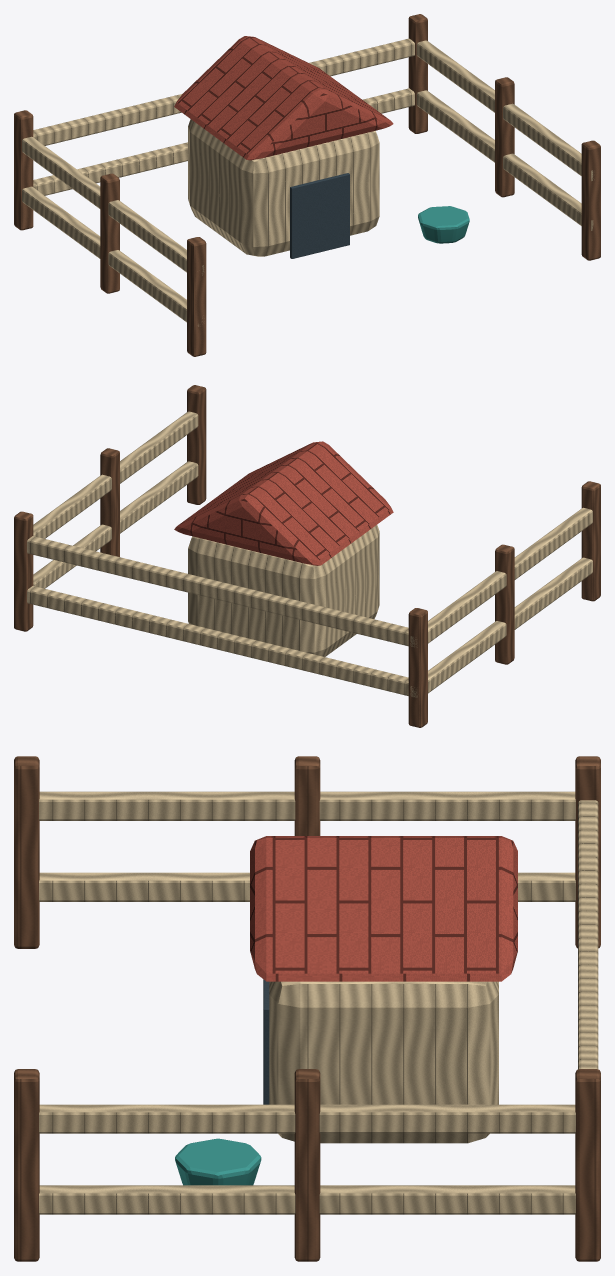
The model's file is house_backyard.glb.
3 views of the same model, one above another, from view 1: azimuth 30°, elevation 25°; view 2: azimuth 150°, elevation 25°; view 3: azimuth 270°, elevation 25° (orthographic). The views are drawn at different scales.
Visible parts, largest first — view 1: gable_roof, doghouse, back_rail.001, dog_door, side_rail.002, side_rail.003, side_rail.001, side_rail, back_rail, fence_post.003, fence_post, fence_post.001 (+4 smaller); view 2: gable_roof, doghouse, back_rail.001, back_rail, side_rail, side_rail.001, side_rail.003, side_rail.002, fence_post.002, fence_post.005, fence_post.003, fence_post.001 (+2 smaller); view 3: gable_roof, doghouse, side_rail.002, side_rail.001, side_rail.003, side_rail, back_rail.001, fence_post.004, fence_post, fence_post.003, fence_post.005, dog_bowl (+3 smaller).
Part boxes in pixels (box(x1,y1,x2,y2)): gable_roof: box(174, 36, 393, 160); doghouse: box(188, 119, 379, 256); back_rail.001: box(33, 38, 414, 145); dog_door: box(290, 173, 349, 258); side_rail.002: box(416, 90, 593, 230); side_rail.003: box(416, 40, 594, 180); side_rail.001: box(22, 136, 203, 275); side_rail: box(22, 186, 202, 326); back_rail: box(33, 88, 414, 195); fence_post.003: box(581, 140, 600, 260); fence_post: box(187, 237, 206, 356); fence_post.001: box(100, 173, 119, 293); gable_roof: box(174, 441, 393, 565); doghouse: box(188, 525, 379, 656); back_rail.001: box(27, 536, 408, 646); back_rail: box(27, 586, 408, 695); side_rail: box(410, 557, 592, 697); side_rail.001: box(410, 507, 592, 647); side_rail.003: box(33, 411, 198, 538); side_rail.002: box(33, 461, 198, 588); fence_post.002: box(408, 608, 427, 727); fence_post.005: box(14, 511, 33, 631); fence_post.003: box(187, 385, 206, 504); fence_post.001: box(495, 544, 514, 664); gable_roof: box(250, 836, 517, 981); doghouse: box(269, 981, 498, 1143); side_rail.002: box(39, 1185, 575, 1214); side_rail.001: box(39, 791, 575, 820); side_rail.003: box(39, 1104, 575, 1133); side_rail: box(39, 872, 575, 901); back_rail.001: box(578, 800, 598, 1069); fence_post.004: box(294, 1069, 320, 1261); fence_post: box(14, 756, 39, 948); fence_post.003: box(14, 1069, 39, 1261); fence_post.005: box(575, 1069, 600, 1261); dog_bowl: box(175, 1138, 261, 1185).
Bounding box in the file's own units: 3 × 1.14 × 2.3.
Materials: 5 (4 with a texture image).
